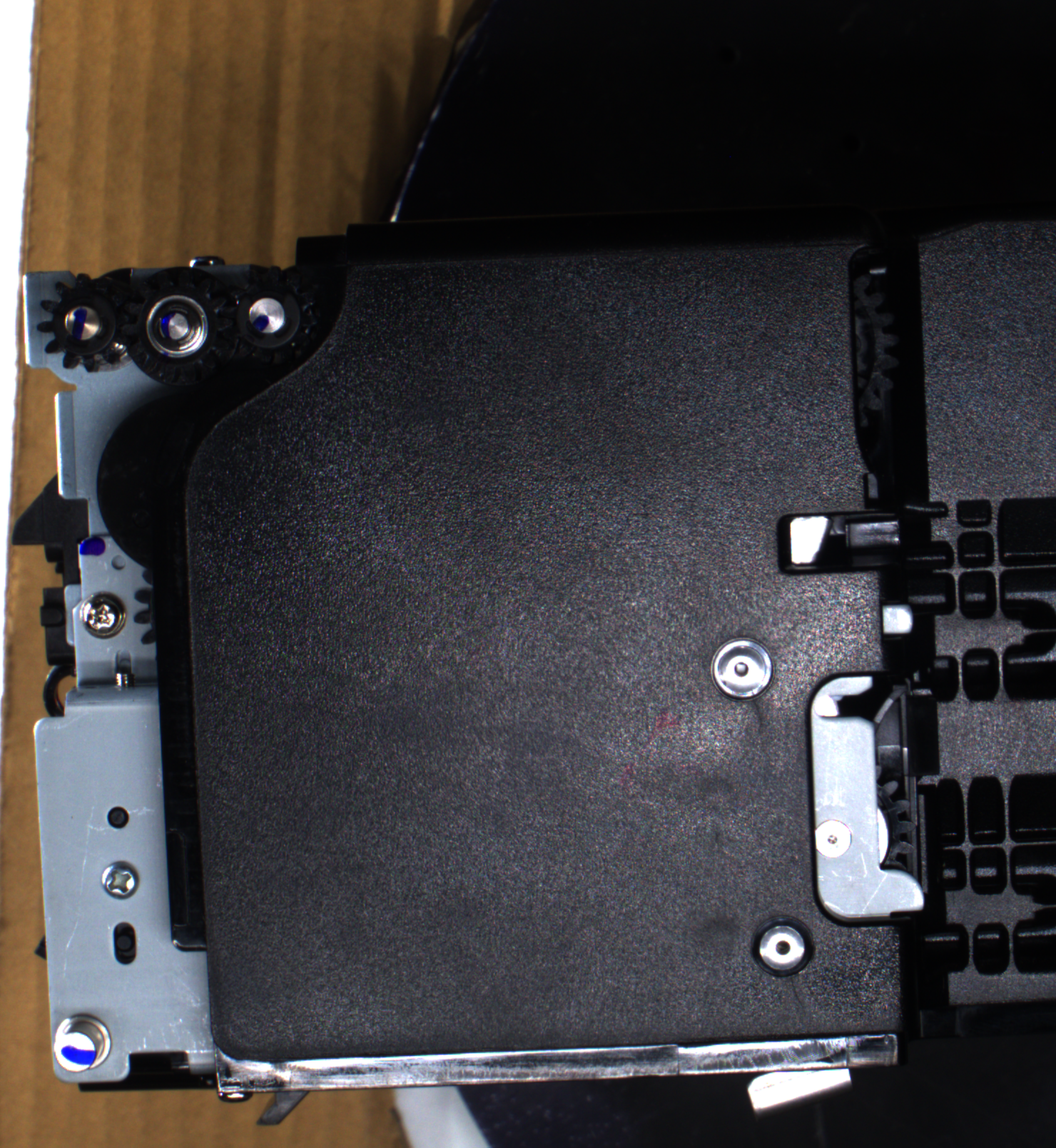centre_pin_presence: (742, 1048, 857, 1116)
centre_plate_presence: (803, 667, 934, 932)
centre_screw_presence: (745, 907, 818, 984), (707, 630, 779, 707)
gear1_presence: (35, 270, 135, 372)
gear2_presence: (119, 267, 234, 386)
gear3_presence: (214, 264, 316, 369)
side_screw_presence: (78, 589, 128, 639), (95, 855, 141, 899)
slanting_pin_presence: (48, 1009, 120, 1080)
